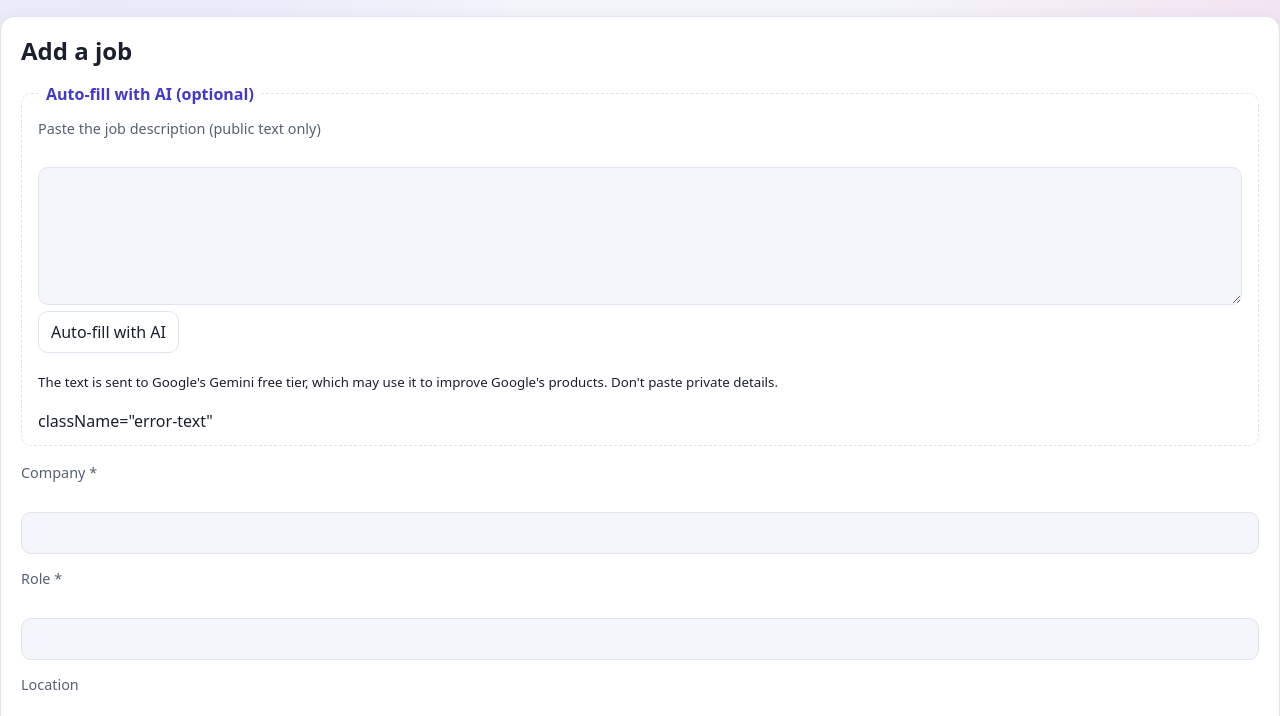
Test: JobForm › shows a readable message when the AI fails
Click the text box labelled "Paste the job description (public text only)" at {"x": 640, "y": 236}, box 38,167 -> 1242,305
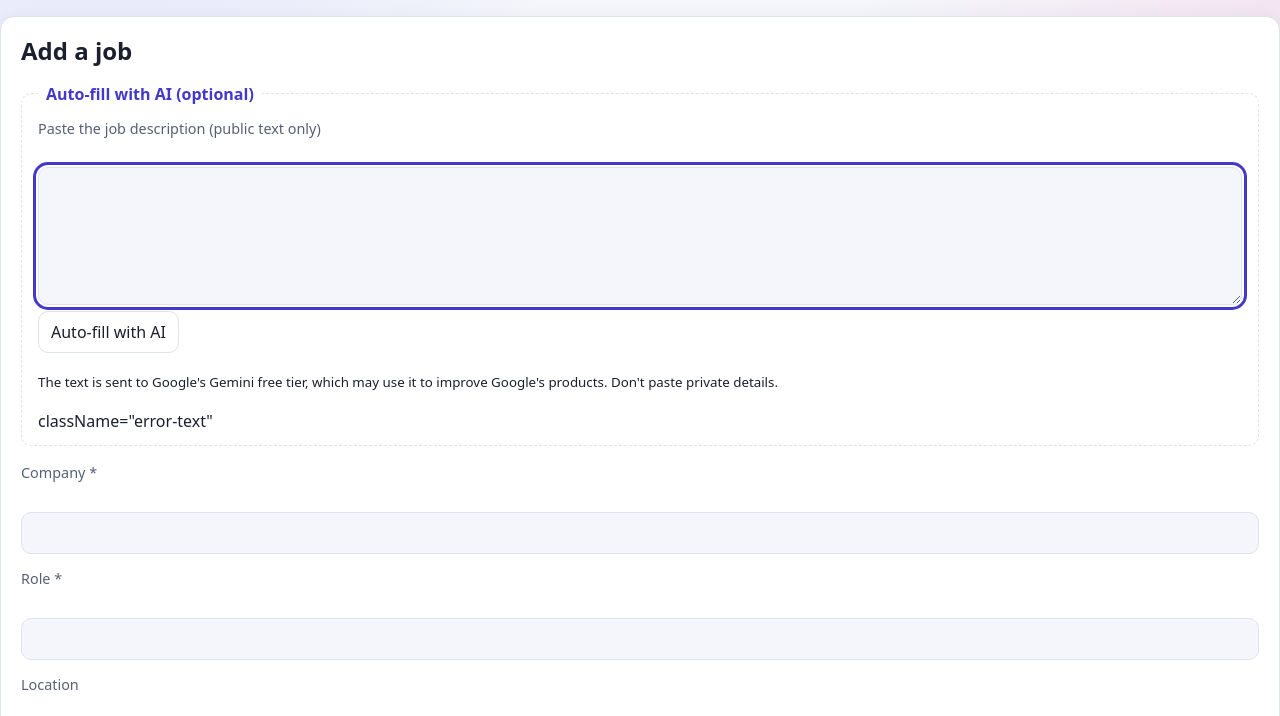
Type keys "A long enough job description for the check to pass."
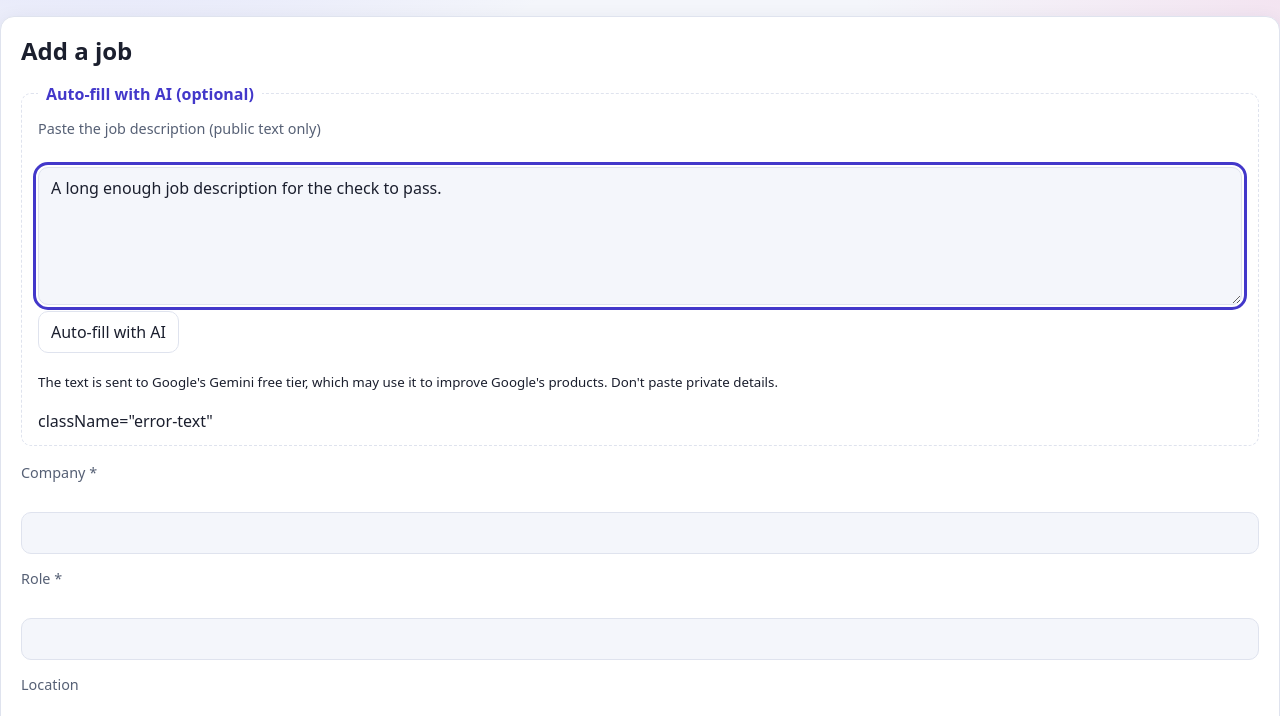
Click the button "Auto-fill with AI" at {"x": 108, "y": 332}, box 38,311 -> 179,353
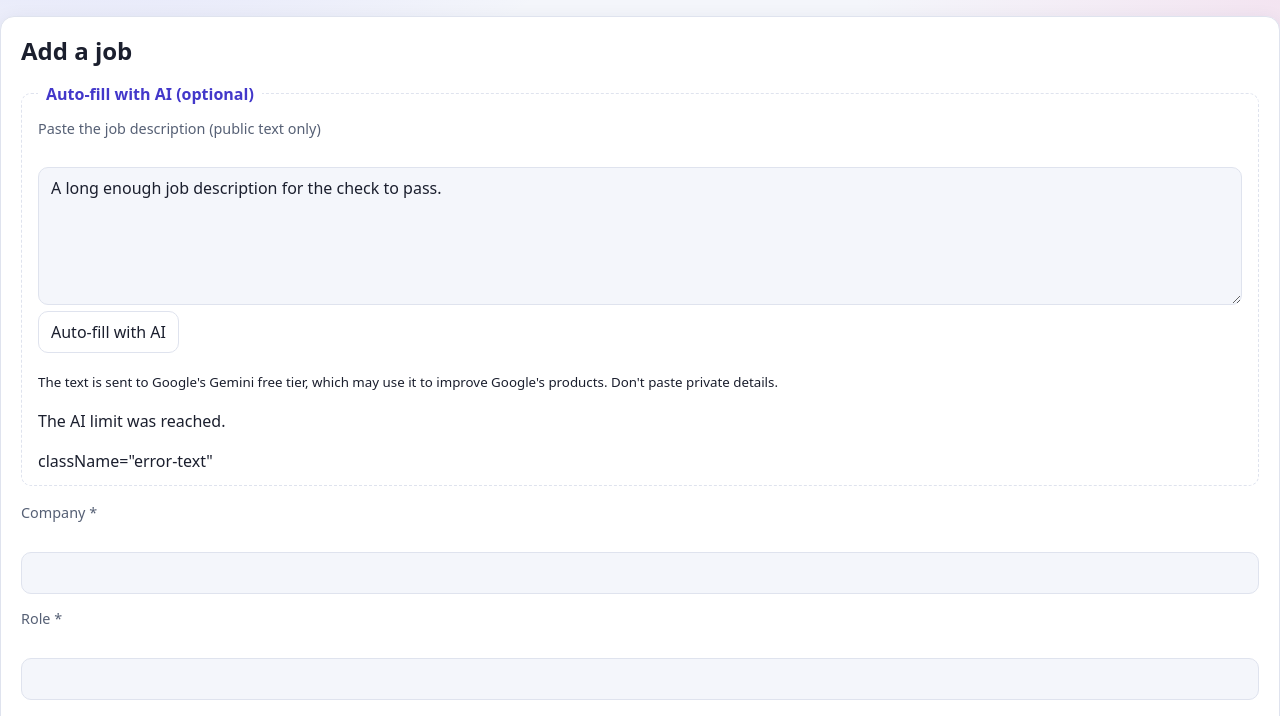
Expected: the text "The AI limit was reached." is shown, 38,410 -> 226,432
